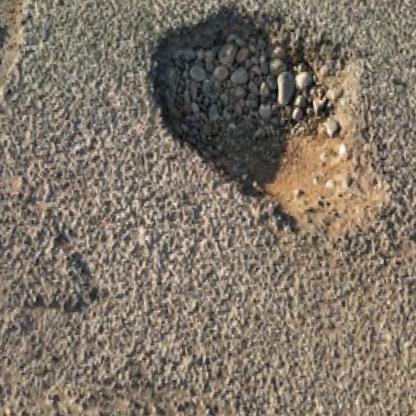pothole: (143, 0, 398, 261)
